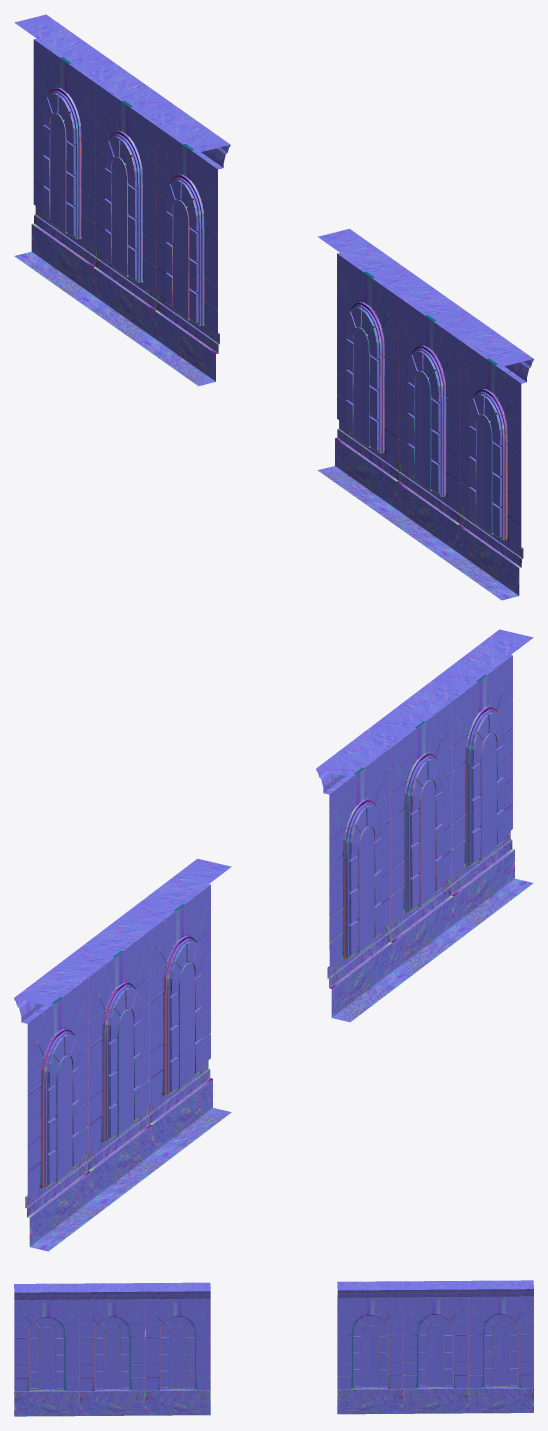
The picture shows the model from 3 angles, top to bottom: view 1: azimuth 30°, elevation 25°; view 2: azimuth 150°, elevation 25°; view 3: azimuth 270°, elevation 25°; orthographic projection. The views are drawn at different scales.
Parts seen in each view (by area): view 1: _1Fwindow_low_001; view 2: _1Fwindow_low_001; view 3: _1Fwindow_low_001.
Boxes of the visible parts, x1,y1,x2,y2 form: _1Fwindow_low_001: (14,14,533,600); _1Fwindow_low_001: (14,629,533,1251); _1Fwindow_low_001: (14,1280,533,1416).
Bounding box in the file's own units: 120 × 587 × 2163.
